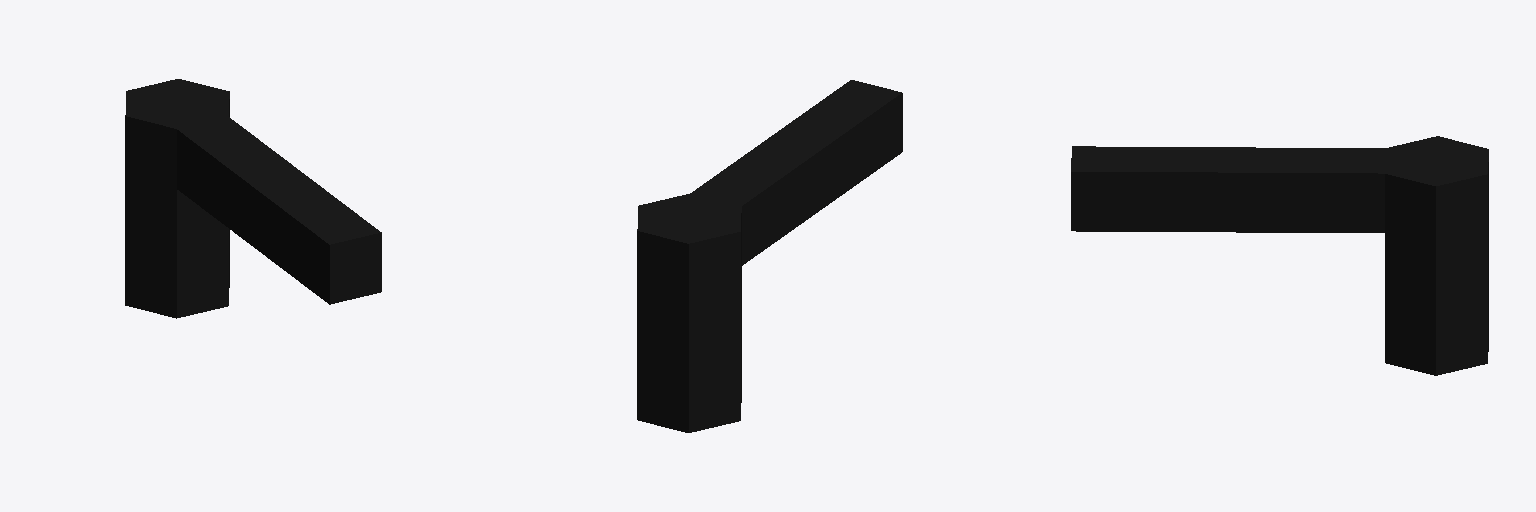
File: DistilledWaterContainer_Valve_Closed.obj
The picture shows the model from 3 angles: view 1: azimuth 30°, elevation 25°; view 2: azimuth 150°, elevation 25°; view 3: azimuth 270°, elevation 25°; orthographic projection.
Visible parts, largest first — view 1: Mesh1 Component_1_1 Model; view 2: Mesh1 Component_1_1 Model; view 3: Mesh1 Component_1_1 Model.
Part boxes in pixels (x1,y1,x2,y2): Mesh1 Component_1_1 Model: (125, 79, 381, 318); Mesh1 Component_1_1 Model: (637, 80, 902, 432); Mesh1 Component_1_1 Model: (1071, 136, 1488, 375).
Bounding box in the file's own units: 0.0114 × 0.02 × 0.04.